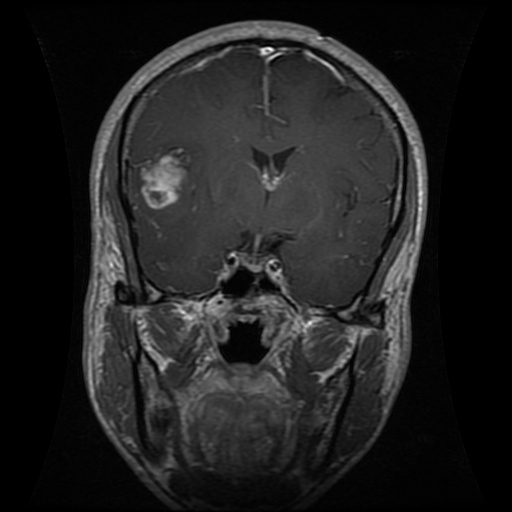glioma: (131, 138, 203, 214)
